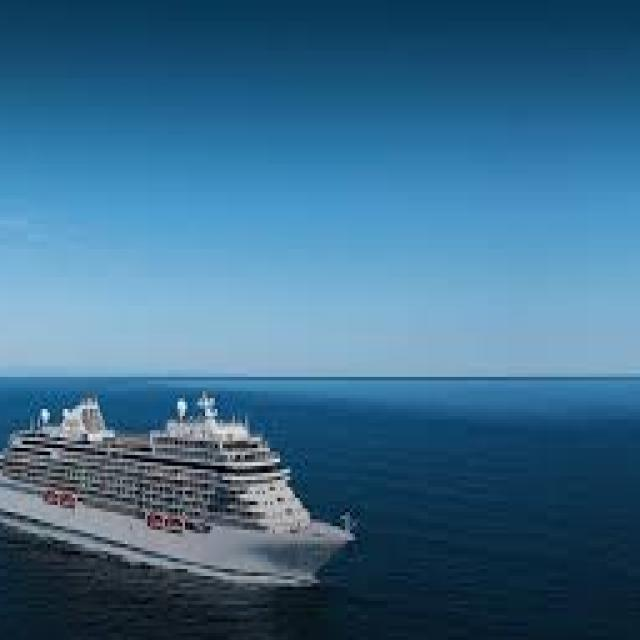passenger ship: (0, 380, 358, 586)
